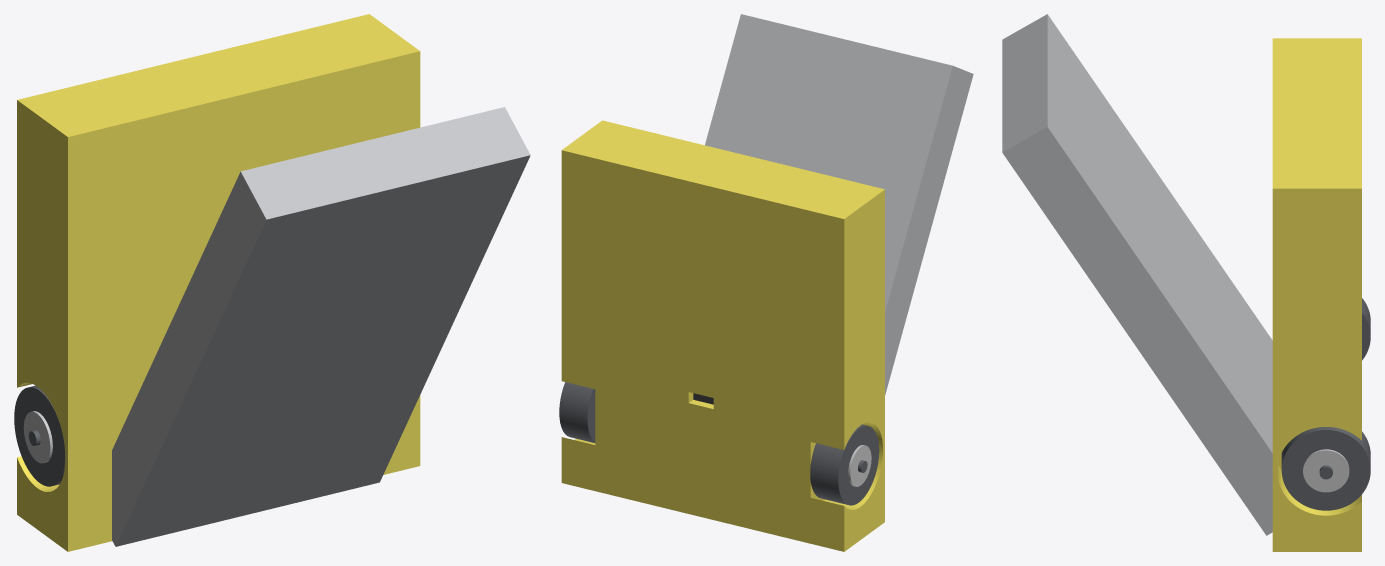
The picture shows the model from 3 angles, left to right: view 1: azimuth 30°, elevation 25°; view 2: azimuth 150°, elevation 25°; view 3: azimuth 270°, elevation 25°; orthographic projection. The views are drawn at different scales.
Visible parts, largest first — view 1: flipper, chassis, wheel_r0, dt_hub_wheel_r0; view 2: chassis, flipper, wheel_r0, wheel_l0, dt_hub_wheel_r0; view 3: flipper, chassis, wheel_l0, dt_hub_wheel_l0.
Part boxes in pixels (x1=…): flipper: x1=112, y1=107, x2=530, y2=546; chassis: x1=17, y1=14, x2=420, y2=551; wheel_r0: x1=14, y1=385, x2=65, y2=486; dt_hub_wheel_r0: x1=23, y1=411, x2=52, y2=463; chassis: x1=561, y1=120, x2=884, y2=551; flipper: x1=705, y1=14, x2=973, y2=395; wheel_r0: x1=810, y1=424, x2=879, y2=505; wheel_l0: x1=559, y1=382, x2=595, y2=442; dt_hub_wheel_r0: x1=848, y1=445, x2=871, y2=486; flipper: x1=1002, y1=14, x2=1272, y2=535; chassis: x1=1272, y1=38, x2=1361, y2=551; wheel_l0: x1=1281, y1=427, x2=1370, y2=510; dt_hub_wheel_l0: x1=1303, y1=449, x2=1349, y2=492.
Size of the model in its own units: 82.2 by 101 by 82.76.
